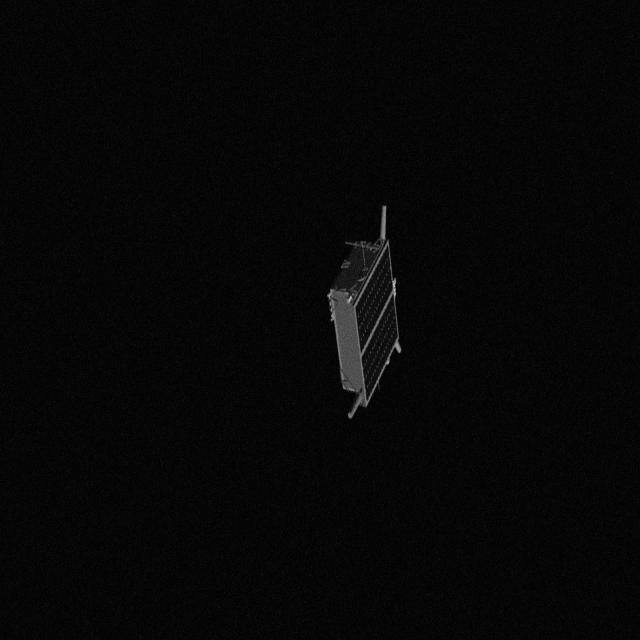satellite: (324, 188, 426, 422)
